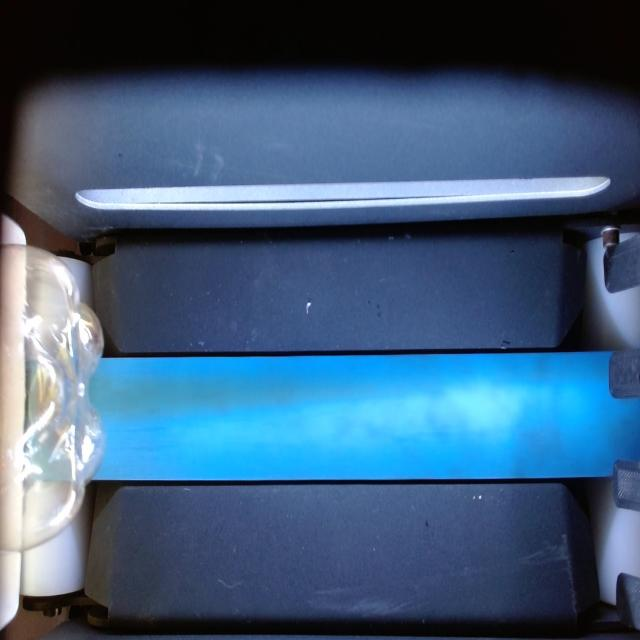bottom: (0, 244, 105, 550)
